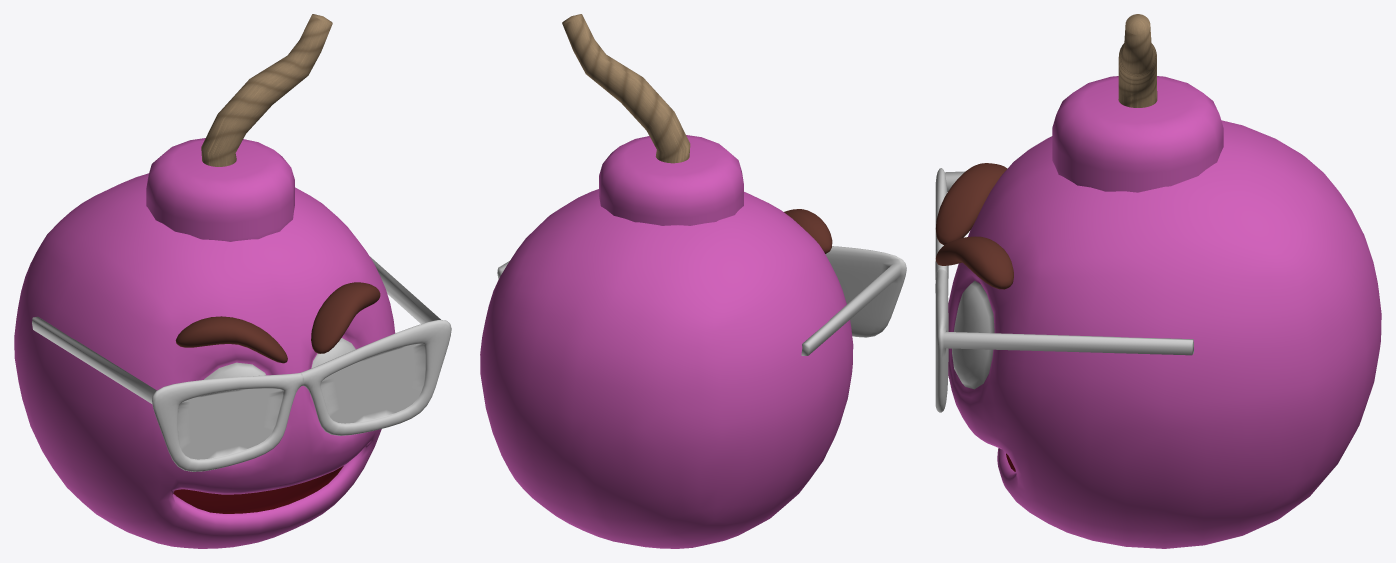
Rendered from Bomb 05.fbx.
3 views of the same model, side by side, from view 1: azimuth 30°, elevation 25°; view 2: azimuth 150°, elevation 25°; view 3: azimuth 270°, elevation 25° (orthographic). The views are drawn at different scales.
Parts seen in each view (by area): view 1: Sunglasses, Cylinder, Sphere; view 2: Sunglasses, Cylinder, Sphere; view 3: Sunglasses, Cylinder, Sphere.
Part boxes in pixels (x1,y1,x2,y2): Sunglasses: (14,173,451,548); Cylinder: (146,138,294,241); Sphere: (201,14,332,166); Sunglasses: (480,189,906,548); Cylinder: (599,135,743,225); Sphere: (562,14,690,163); Sunglasses: (935,120,1381,548); Cylinder: (1052,76,1223,192); Sphere: (1118,14,1157,107).
Size of the model in its own units: 157 by 231 by 165.
